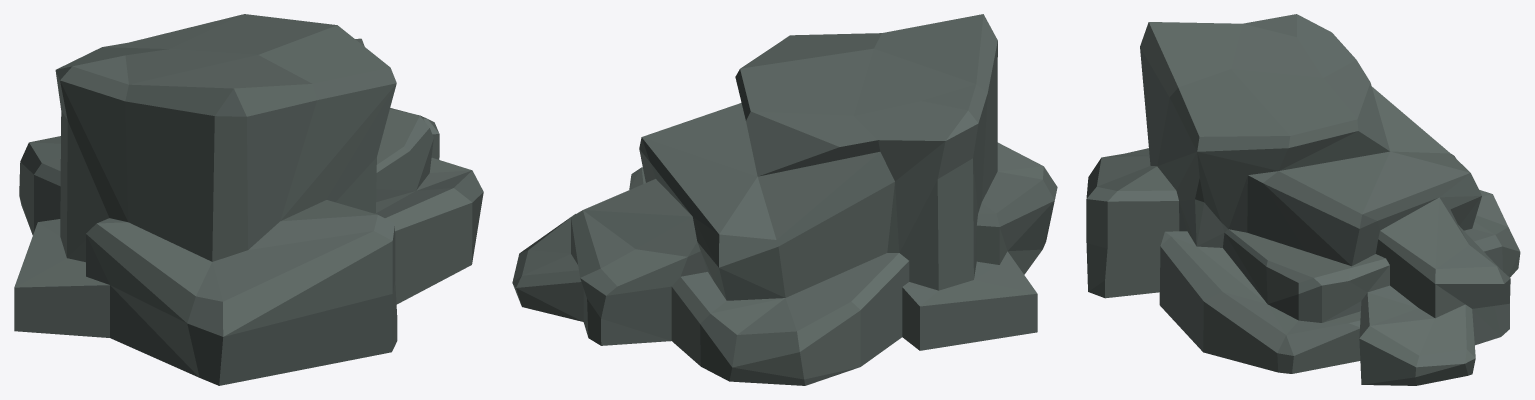
Rendered from SM_Rock_C.glb.
3 views of the same model, side by side, from view 1: azimuth 30°, elevation 25°; view 2: azimuth 150°, elevation 25°; view 3: azimuth 270°, elevation 25° (orthographic). The views are drawn at different scales.
Visible parts, largest first — view 1: SM_Rock_C; view 2: SM_Rock_C; view 3: SM_Rock_C.
Boxes of the visible parts, left/top/right/bottom form: SM_Rock_C: left=14, top=14, right=483, bottom=385; SM_Rock_C: left=512, top=14, right=1057, bottom=385; SM_Rock_C: left=1086, top=14, right=1520, bottom=385.
Size of the model in its own units: 7.49 by 3.92 by 6.76.
Materials: 1 (1 with a texture image).
